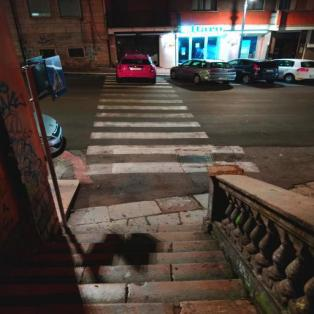Paso de Cebra: (88, 120, 214, 142), (98, 93, 186, 106)
